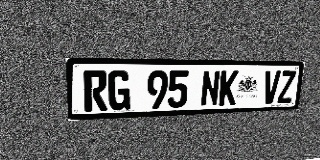5: (168, 70, 189, 108)
9: (147, 70, 168, 109)
G: (108, 70, 130, 111)
K: (218, 71, 239, 106)
N: (200, 70, 221, 107)
R: (83, 70, 107, 112)
V: (261, 71, 281, 104)
Z: (277, 71, 296, 104)
